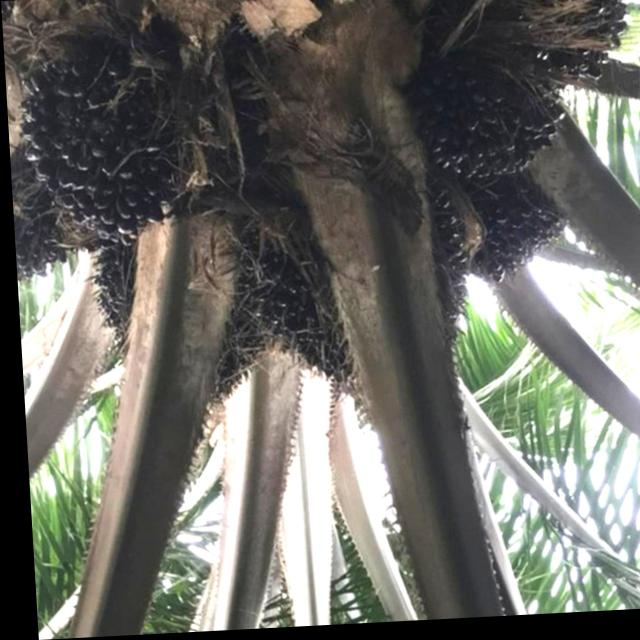almost: (235, 170, 480, 431)
